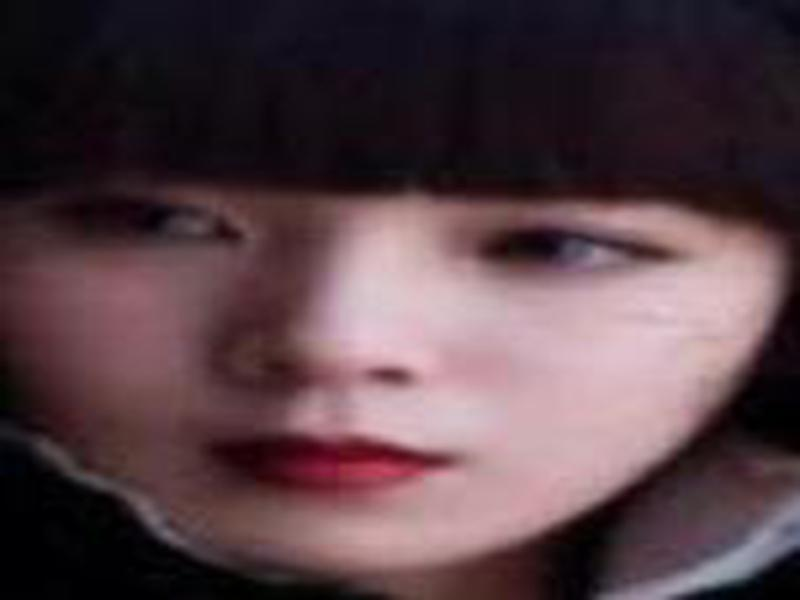without_mask: (14, 150, 774, 563)
